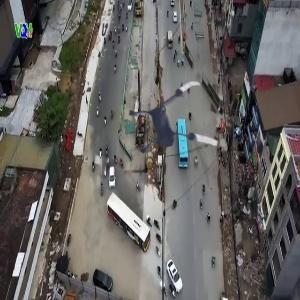drone: (120, 74, 227, 181)
